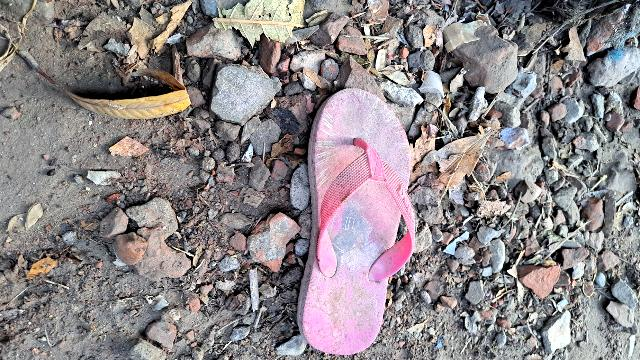sandal: (250, 64, 446, 359)
